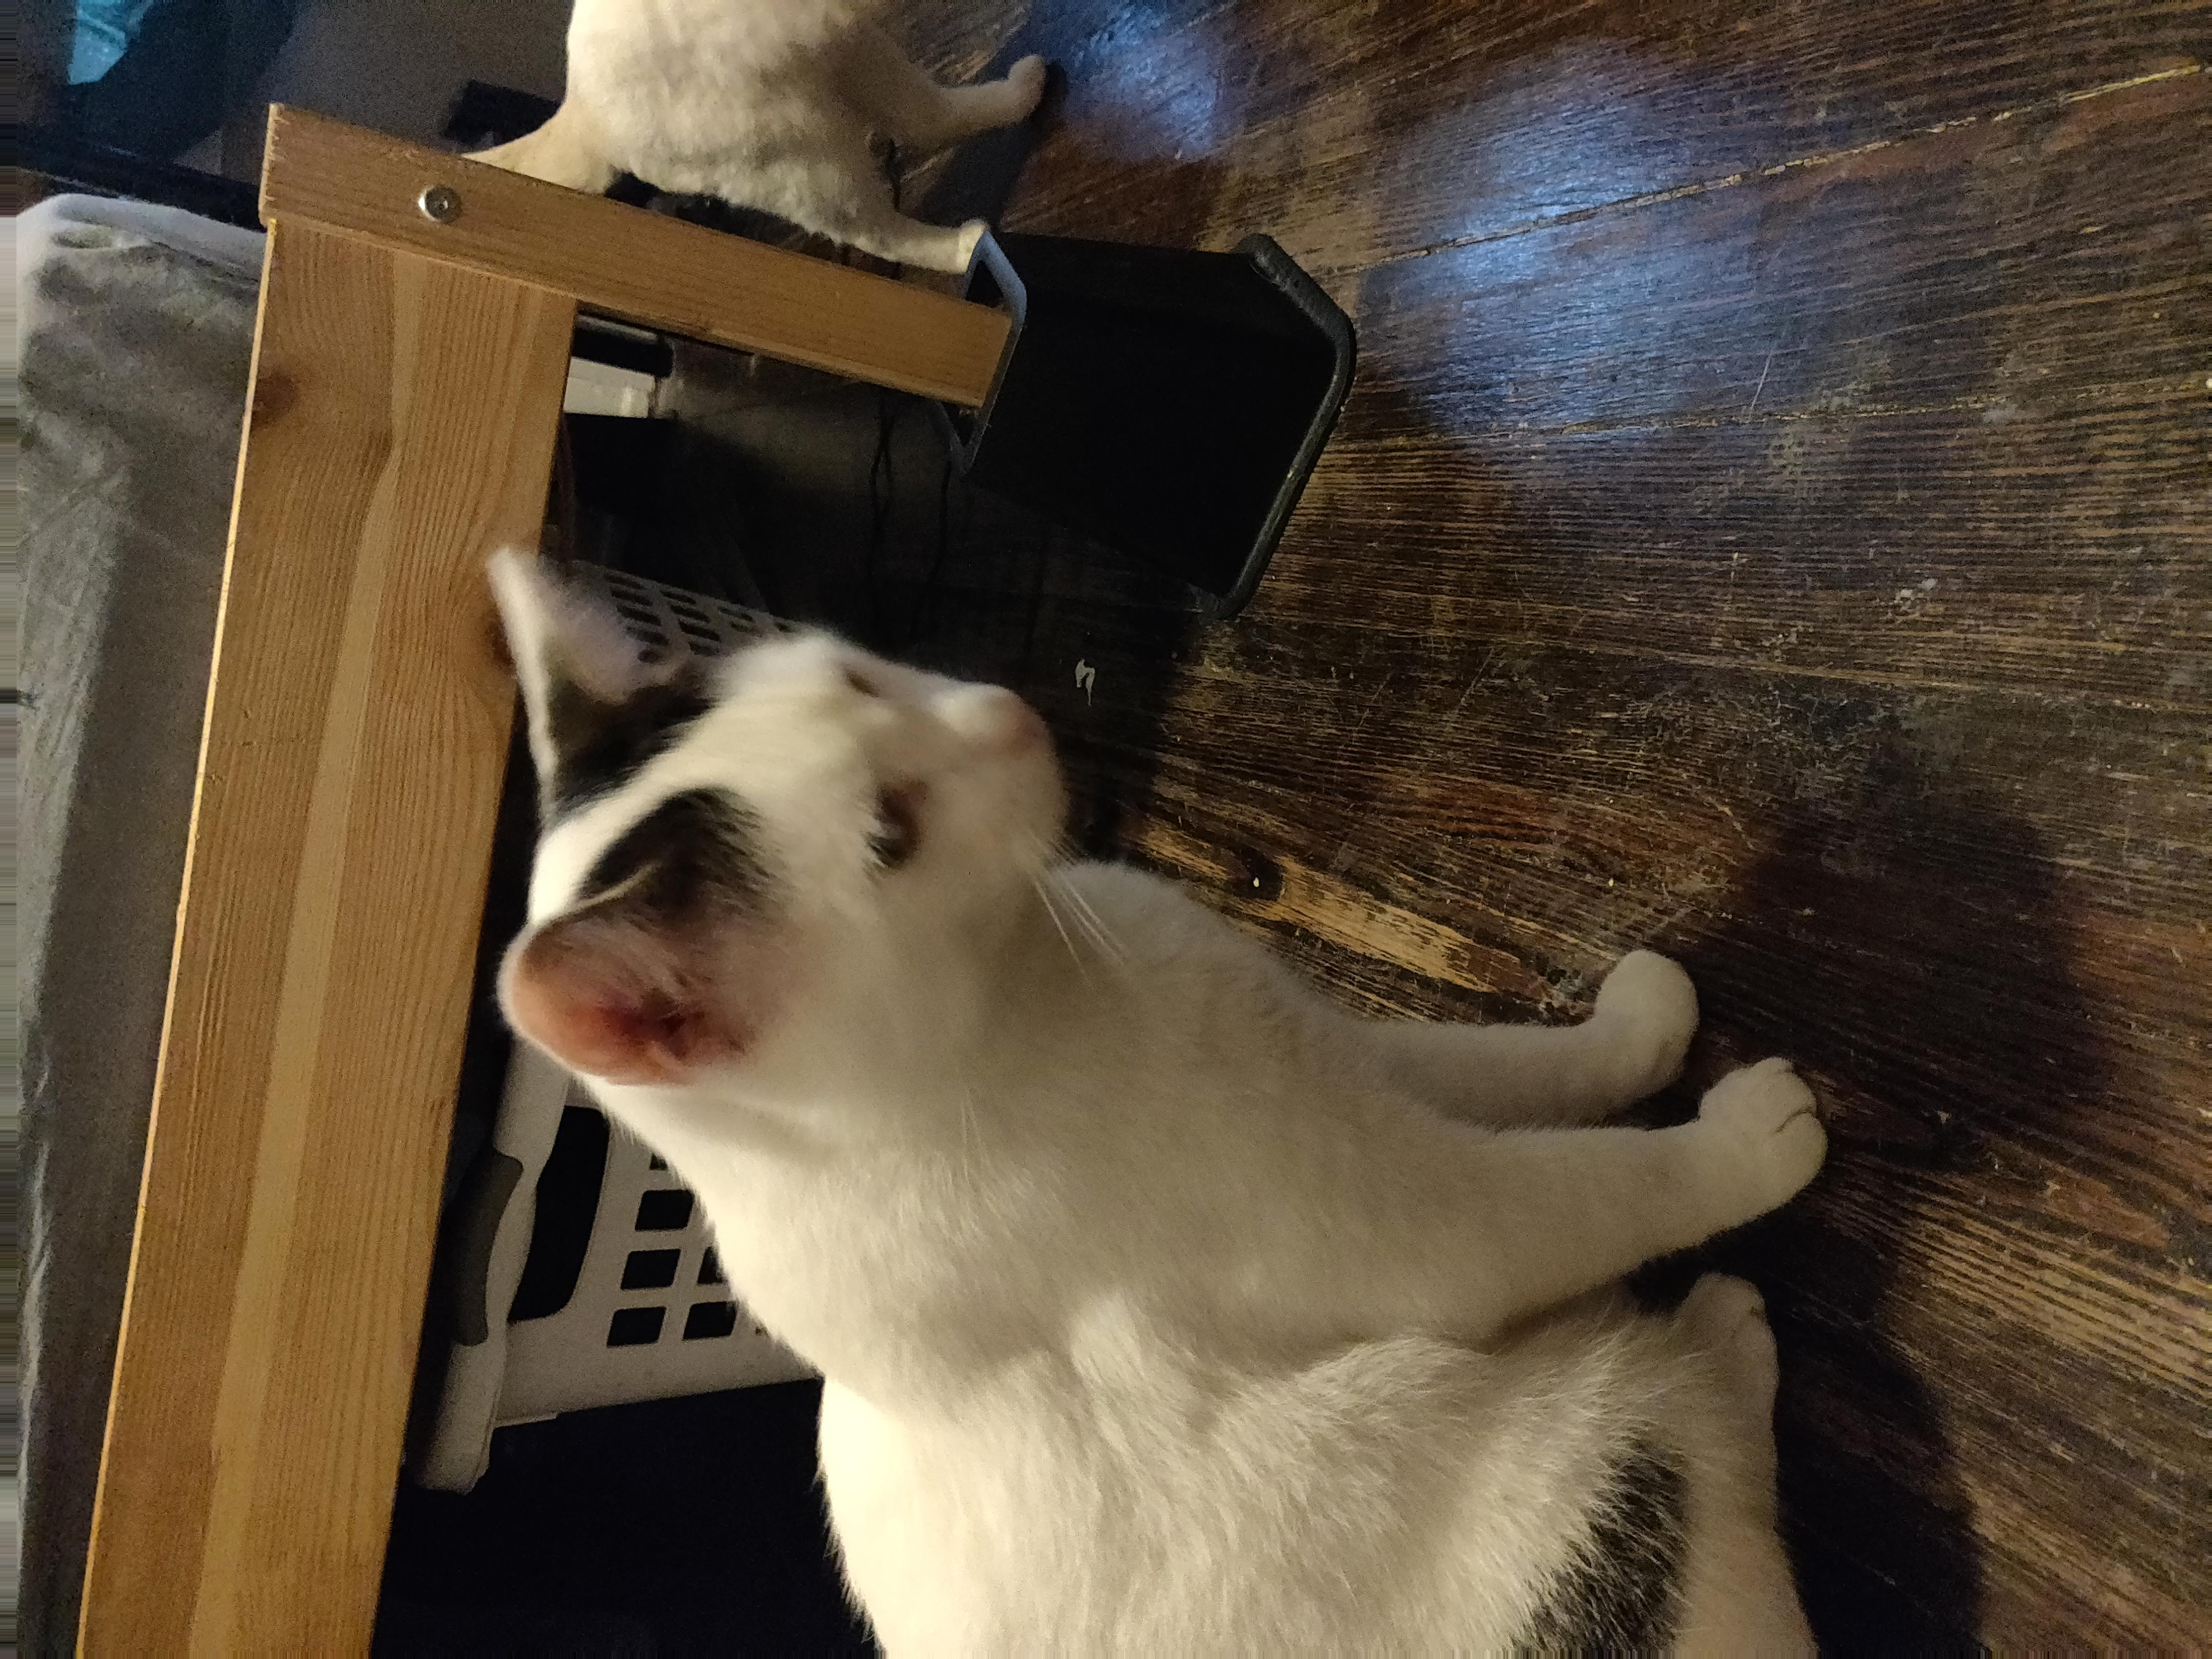cat: (484, 526, 1810, 1647), (449, 0, 1046, 255)
